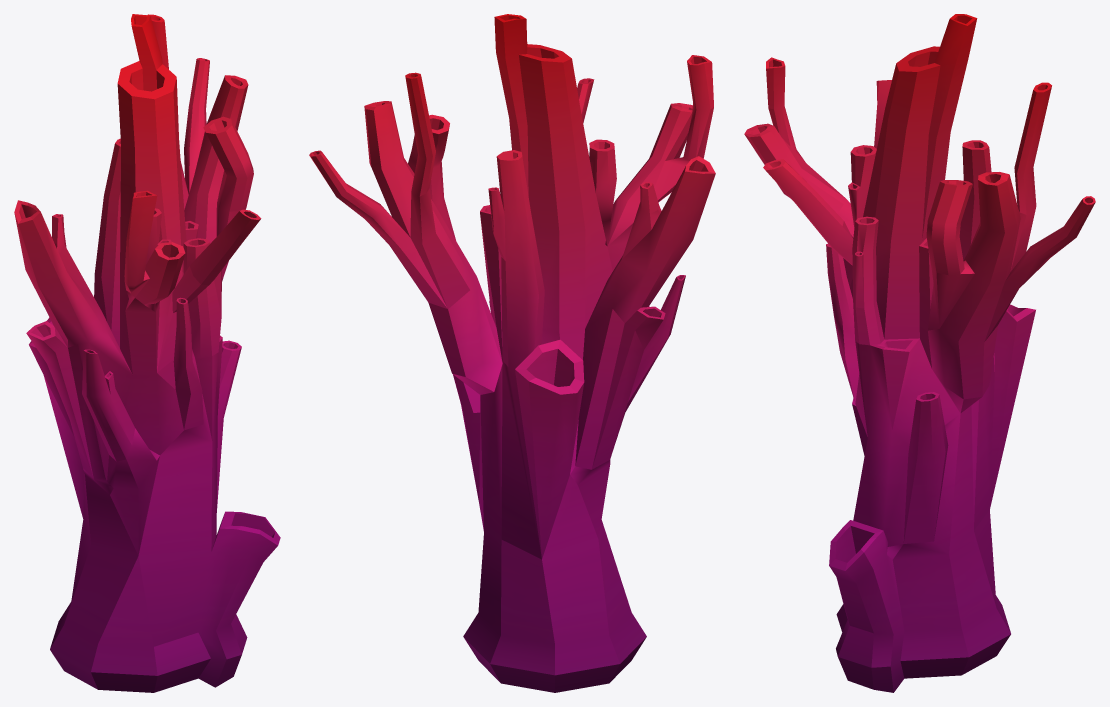
File: coral1.fbx
3 views of the same model, side by side, from view 1: azimuth 30°, elevation 25°; view 2: azimuth 150°, elevation 25°; view 3: azimuth 270°, elevation 25° (orthographic). The views are drawn at different scales.
Parts seen in each view (by area): view 1: coral1; view 2: coral1; view 3: coral1.
Boxes of the visible parts, x1,y1,x2,y2 form: coral1: [14, 14, 280, 692]; coral1: [309, 14, 715, 692]; coral1: [744, 14, 1095, 692].
Bounding box in the file's own units: 0.00777 × 0.0162 × 0.00794.
Materials: 1 (1 with a texture image).
